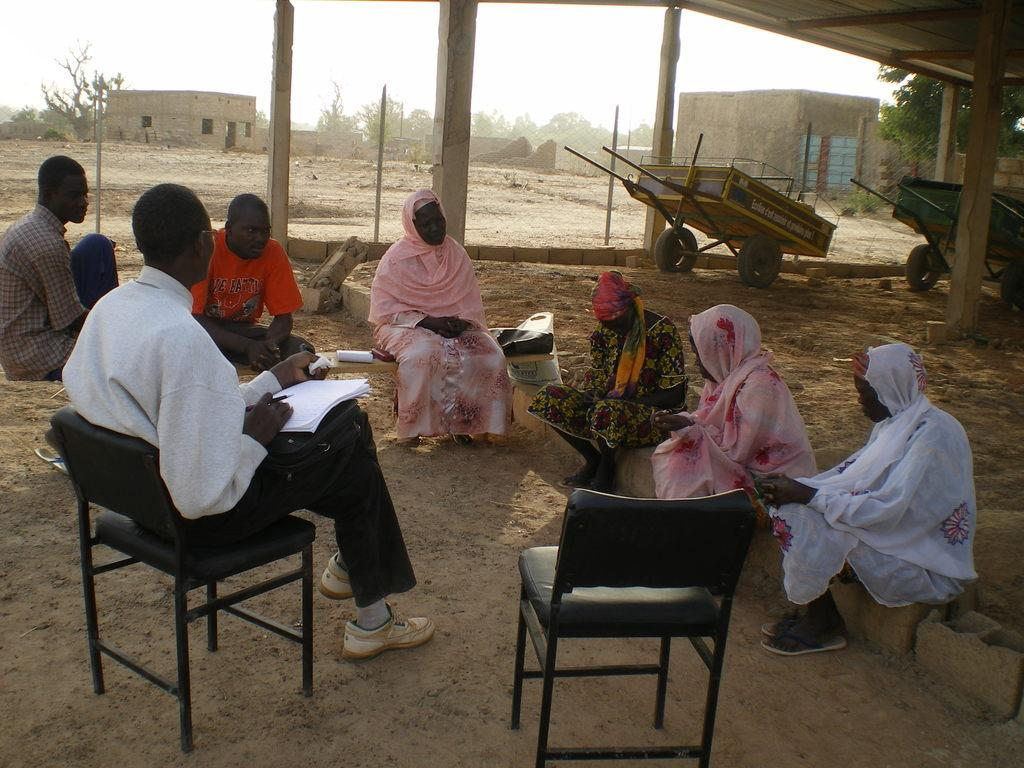Chair: (61, 409, 327, 756), (504, 497, 750, 767)
